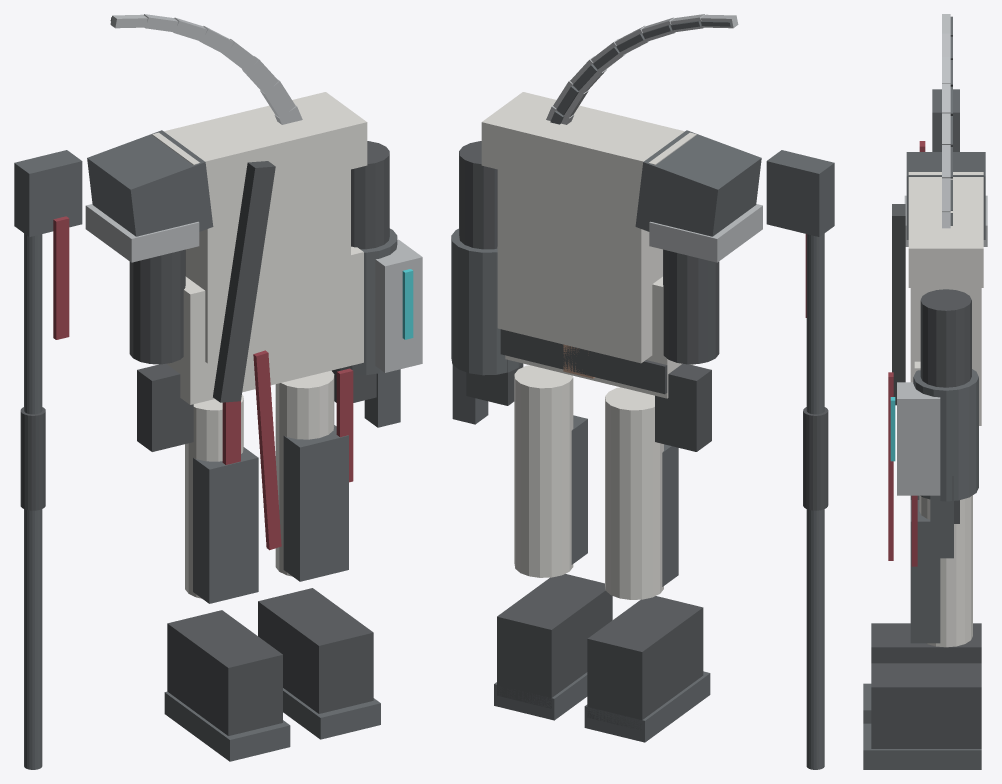
File: ain_outfit_03_Maehwa_bonebound_v02.glb
3 renders of one model, left to right at view 1: azimuth 30°, elevation 25°; view 2: azimuth 150°, elevation 25°; view 3: azimuth 270°, elevation 25°, orthographic. The views are drawn at different scales.
Parts seen in each view (by area): view 1: torso_shell, shoulder_yoke, boot_L, boot_R, left_shoulder_plate, shin_plate_R, shin_plate_L, short_jacket, scythe_shaft_2, asym_harness_3, sleeve_L, scythe_head_base_2 (+18 smaller); view 2: torso_shell, shoulder_yoke, leg_base_R, boot_L, leg_base_L, boot_R, left_shoulder_plate, scythe_shaft_2, right_gauntlet, sleeve_L, scythe_head_base_2, utility_belt (+11 smaller); view 3: boot_R, shoulder_yoke, right_gauntlet, sleeve_R, right_gauntlet_spine, leg_base_R, shin_plate_R, boot_L, boot_sole_R, asym_harness_3, torso_shell, left_shoulder_plate (+12 smaller).
Part boxes in pixels (x1=…): torso_shell: x1=185, y1=169, x2=350, y2=363; shoulder_yoke: x1=152, y1=92, x2=367, y2=203; boot_L: x1=167, y1=610, x2=282, y2=735; boot_R: x1=258, y1=588, x2=373, y2=713; left_shoulder_plate: x1=87, y1=130, x2=213, y2=236; shin_plate_R: x1=283, y1=425, x2=348, y2=581; shin_plate_L: x1=193, y1=447, x2=258, y2=603; short_jacket: x1=166, y1=246, x2=363, y2=404; scythe_shaft_2: x1=24, y1=233, x2=42, y2=769; asym_harness_3: x1=213, y1=161, x2=275, y2=402; sleeve_L: x1=129, y1=249, x2=185, y2=364; scythe_head_base_2: x1=14, y1=150, x2=82, y2=236; torso_shell: x1=497, y1=169, x2=662, y2=363; shoulder_yoke: x1=481, y1=92, x2=696, y2=203; leg_base_R: x1=514, y1=365, x2=573, y2=577; boot_L: x1=587, y1=596, x2=703, y2=729; leg_base_L: x1=605, y1=387, x2=663, y2=599; boot_R: x1=497, y1=574, x2=612, y2=708; left_shoulder_plate: x1=635, y1=130, x2=761, y2=236; scythe_shaft_2: x1=806, y1=233, x2=824, y2=769; right_gauntlet: x1=451, y1=228, x2=521, y2=375; sleeve_L: x1=663, y1=249, x2=719, y2=364; scythe_head_base_2: x1=766, y1=150, x2=834, y2=236; utility_belt: x1=500, y1=329, x2=667, y2=394; boot_R: x1=871, y1=663, x2=981, y2=748; shoulder_yoke: x1=908, y1=172, x2=983, y2=287; right_gauntlet: x1=913, y1=369, x2=978, y2=501; sleeve_R: x1=920, y1=289, x2=971, y2=387; right_gauntlet_spine: x1=897, y1=382, x2=940, y2=495; leg_base_R: x1=919, y1=495, x2=972, y2=647; shin_plate_R: x1=910, y1=500, x2=940, y2=643; boot_L: x1=871, y1=623, x2=981, y2=663; boot_sole_R: x1=863, y1=723, x2=981, y2=769; asym_harness_3: x1=892, y1=204, x2=905, y2=405; torso_shell: x1=910, y1=288, x2=981, y2=425; left_shoulder_plate: x1=906, y1=152, x2=985, y2=239.
Size of the model in its own units: 0.99 by 1.85 by 0.315.
